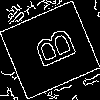B: (25, 25, 77, 74)
